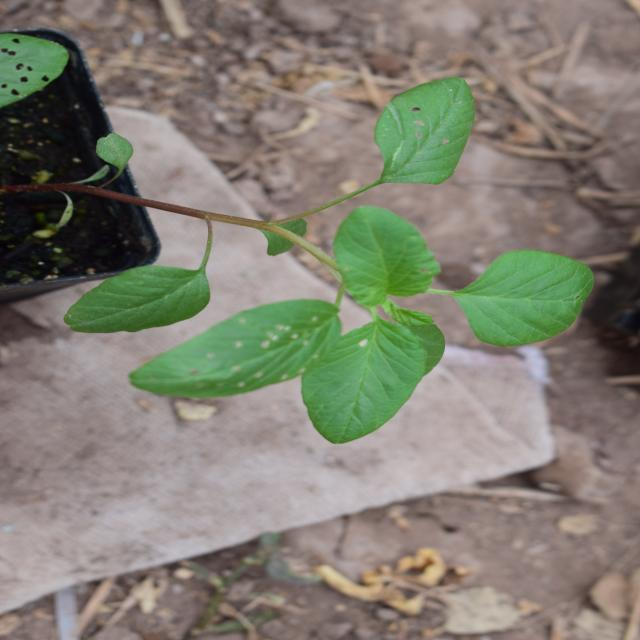pigweed: (78, 49, 434, 557)
